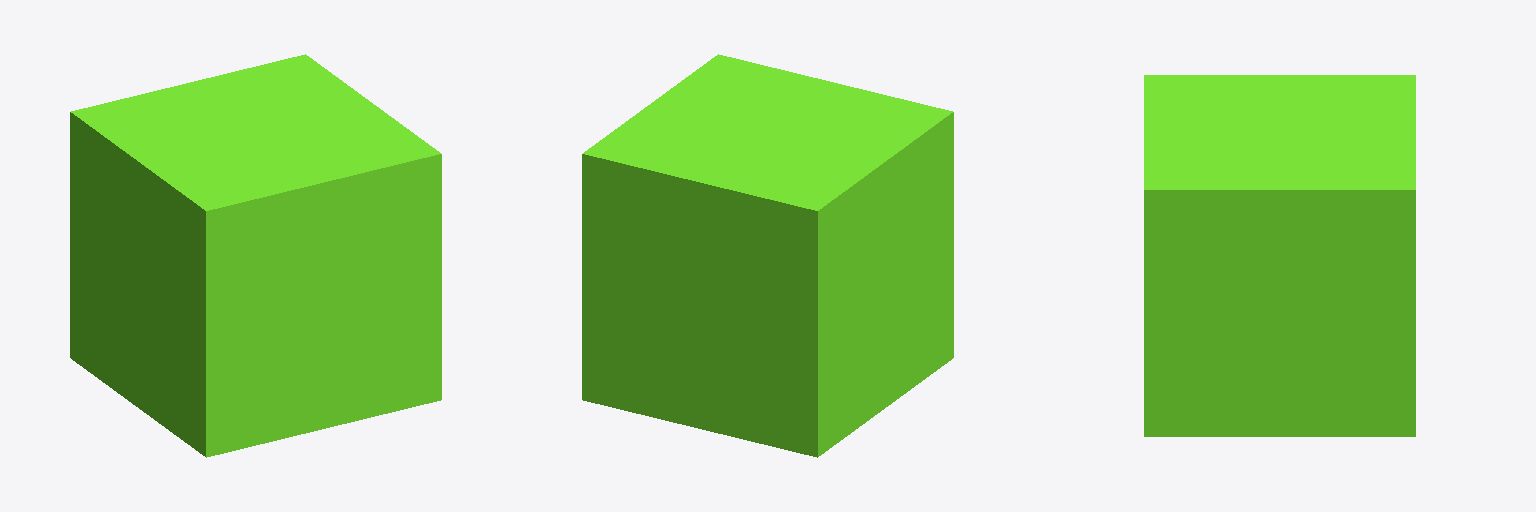
The model's file is player.obj.
3 views of the same model, side by side, from view 1: azimuth 30°, elevation 25°; view 2: azimuth 150°, elevation 25°; view 3: azimuth 270°, elevation 25° (orthographic).
Parts seen in each view (by area): view 1: mergedBlocks; view 2: mergedBlocks; view 3: mergedBlocks.
Part boxes in pixels (x1,y1,x2,y2): mergedBlocks: (70,54,441,457); mergedBlocks: (582,54,953,457); mergedBlocks: (1144,75,1415,436).
Size of the model in its own units: 1 by 1 by 1.